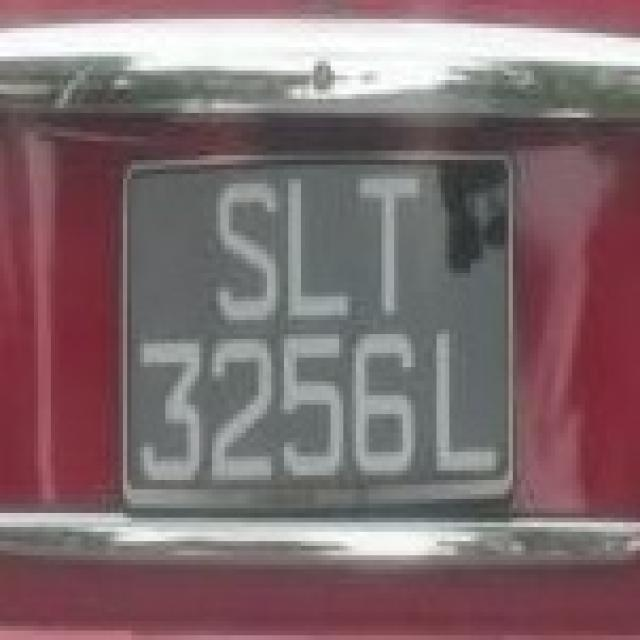2: (210, 338, 276, 482)
3: (136, 338, 206, 486)
5: (281, 334, 346, 479)
6: (354, 331, 421, 482)
L: (282, 180, 355, 320), (432, 330, 502, 472)
S: (214, 180, 283, 320)
T: (352, 176, 428, 314)
